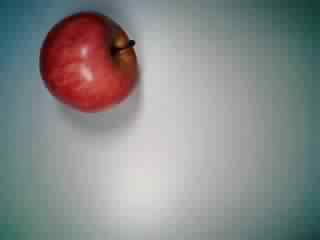apple: (31, 10, 143, 113)
